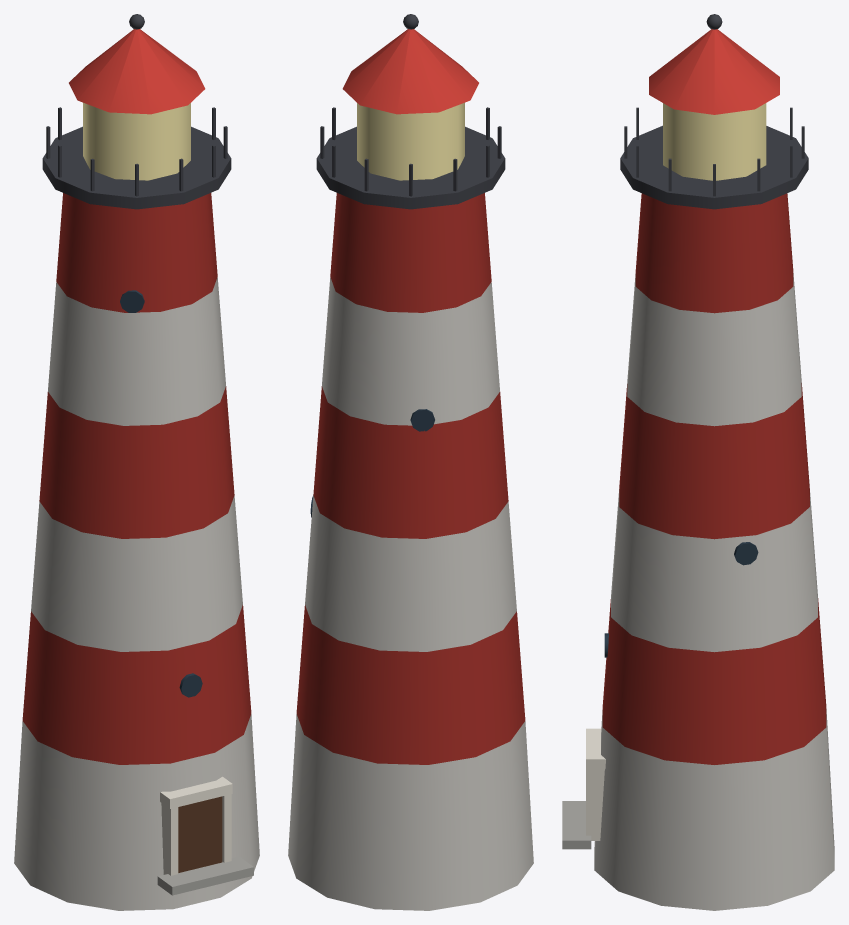
File: Lighthouse.glb
3 views of the same model, side by side, from view 1: azimuth 30°, elevation 25°; view 2: azimuth 150°, elevation 25°; view 3: azimuth 270°, elevation 25° (orthographic).
Visible parts, largest first — view 1: Lighthouse; view 2: Lighthouse; view 3: Lighthouse.
Boxes of the visible parts, <box> form: Lighthouse: <box>14,14,259,910</box>; Lighthouse: <box>288,14,533,910</box>; Lighthouse: <box>562,14,834,910</box>.
Bounding box in the file's own units: 6.8 × 25.72 × 7.51.
